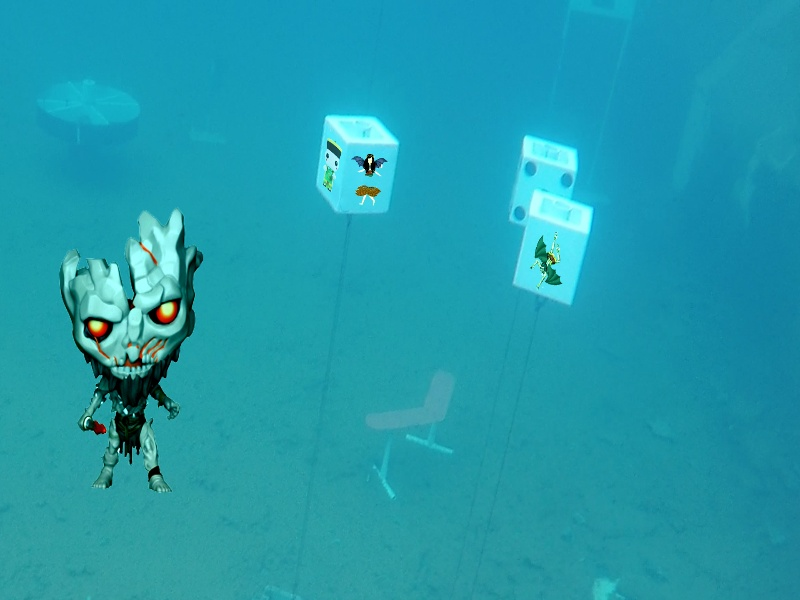Aswang: (348, 149, 388, 210)
Draugr: (56, 204, 208, 496)
Jiangshi: (321, 137, 344, 191)
Vetalas: (529, 227, 566, 290)
